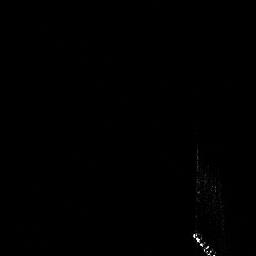ship: (188, 229, 218, 256)
